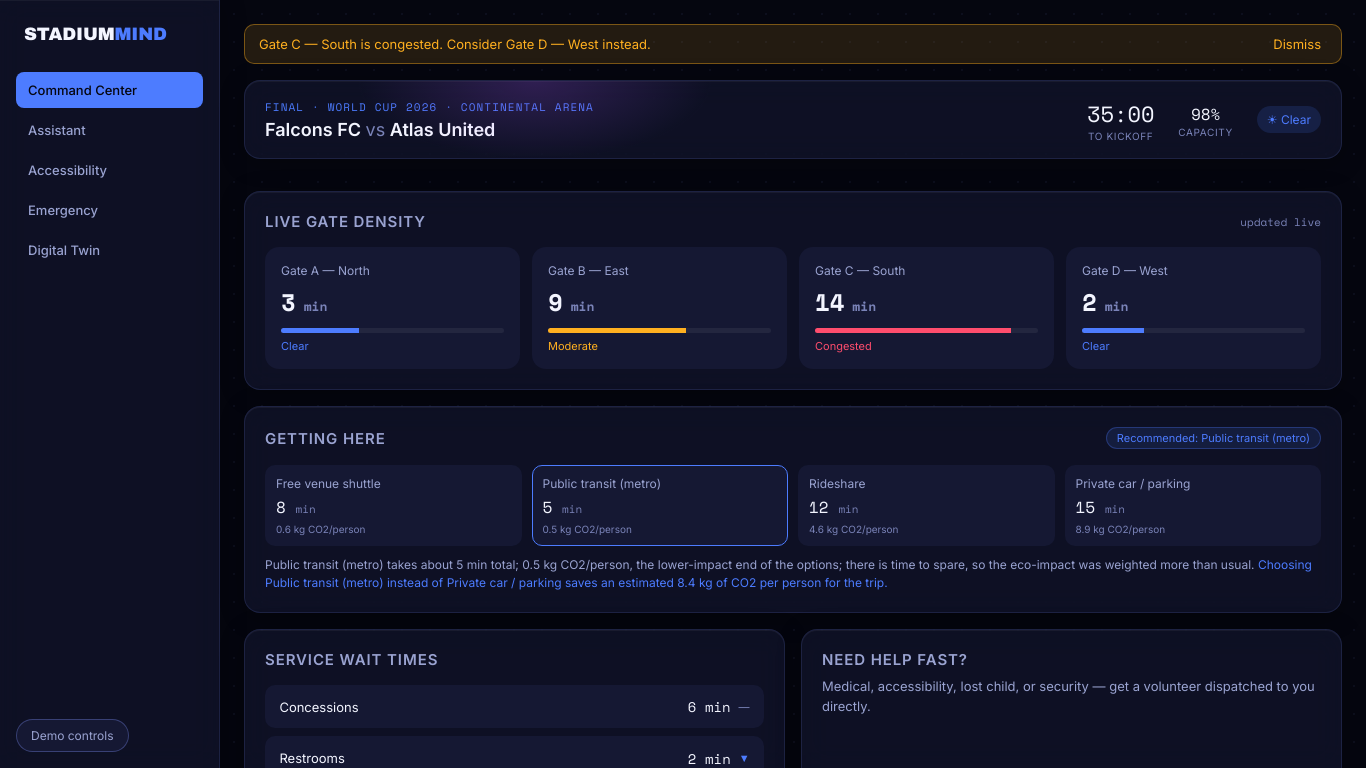
Scenario: App › navigates to the Emergency page and lists all request types
Click the link "Emergency" at (63, 210), box [28,202,98,218]
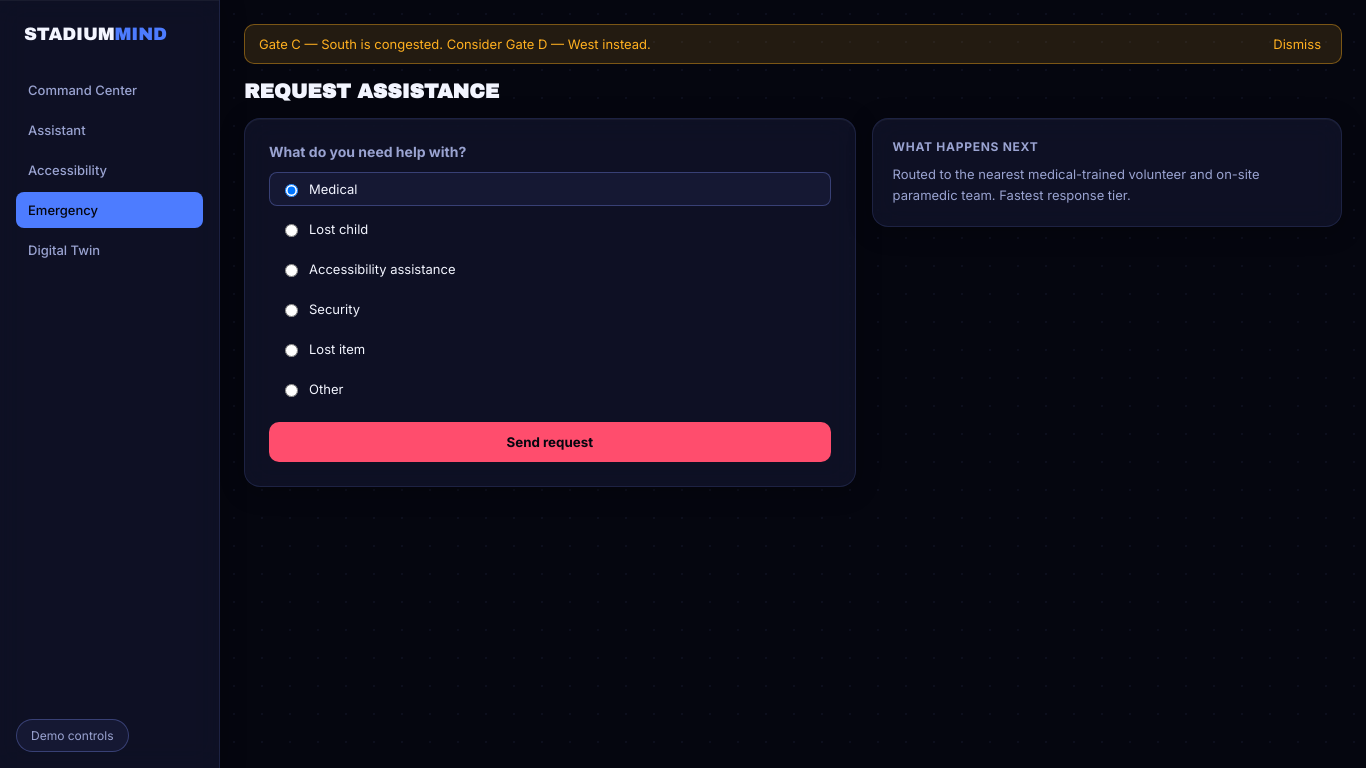
Expected: the heading "REQUEST ASSISTANCE" is shown, [244,80,499,102]
Result: the radio button labelled "Medical" is shown at [285,184,298,197]
Result: the radio button labelled "Lost child" is shown at [285,224,298,237]
